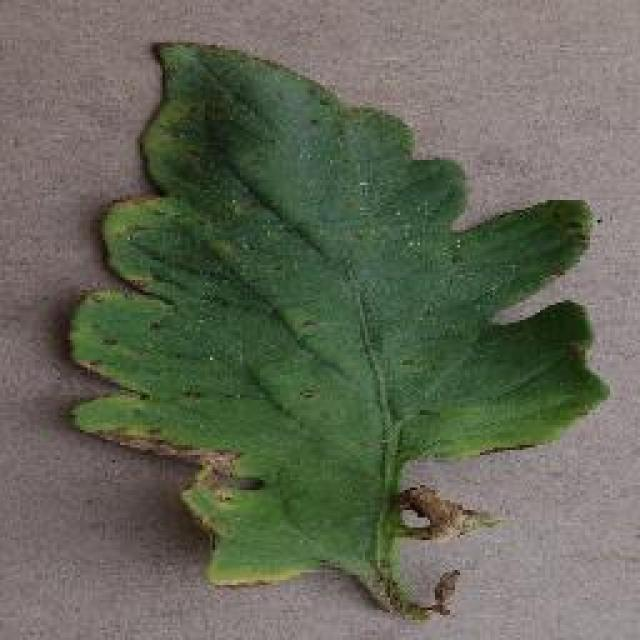bacterial spot: (71, 44, 616, 611)
